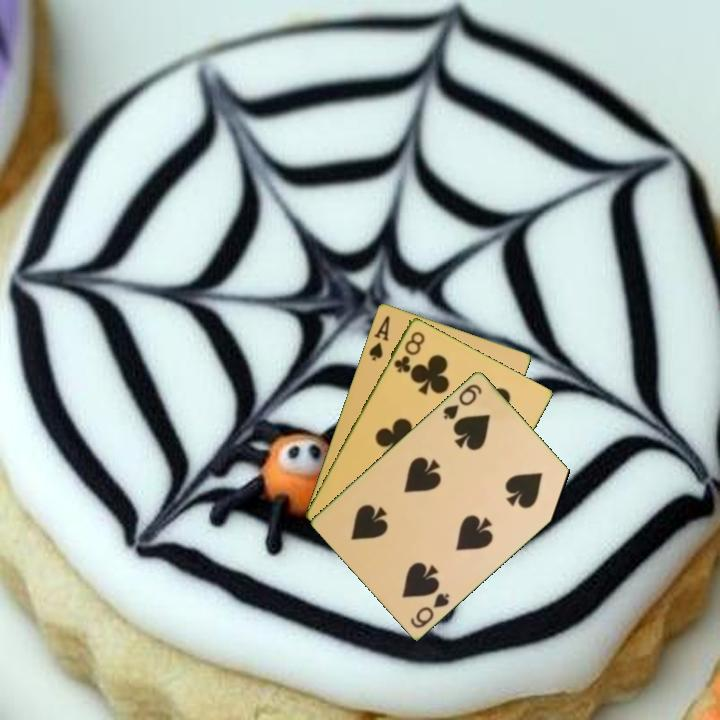6s: (439, 380, 485, 422), (407, 589, 452, 631)
8c: (390, 327, 428, 375)
As: (365, 312, 392, 363)
